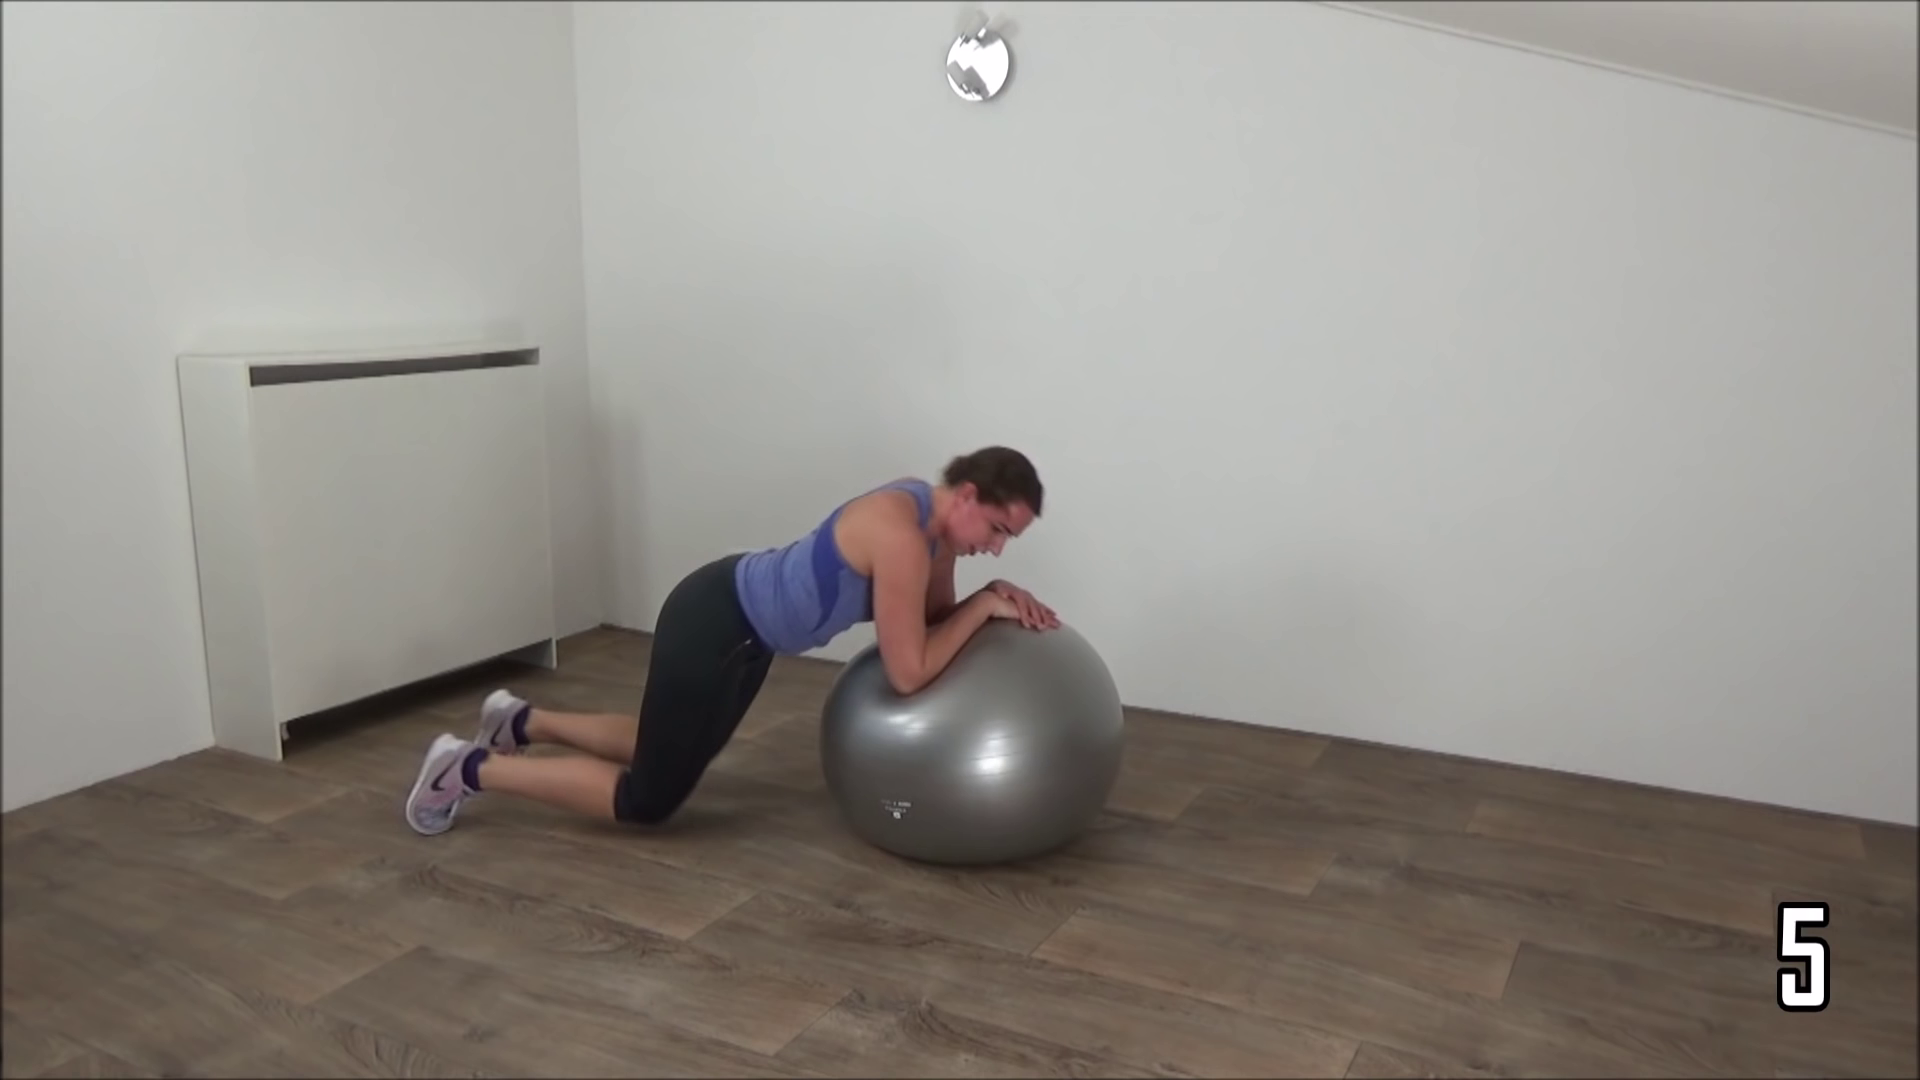yogaball: (811, 603, 1146, 881)
